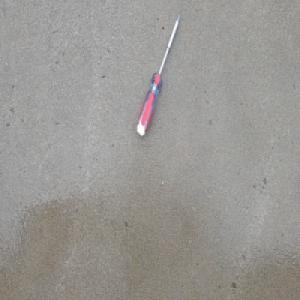Screwdriver: (135, 13, 181, 138)
